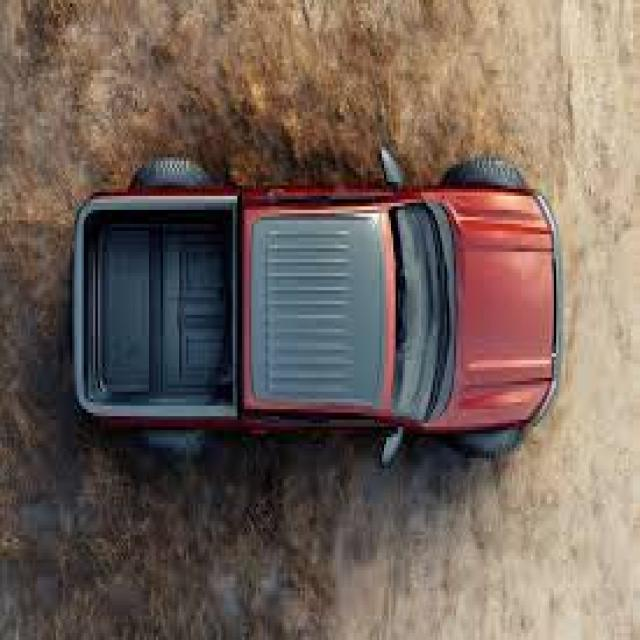truck: (62, 141, 569, 471)
